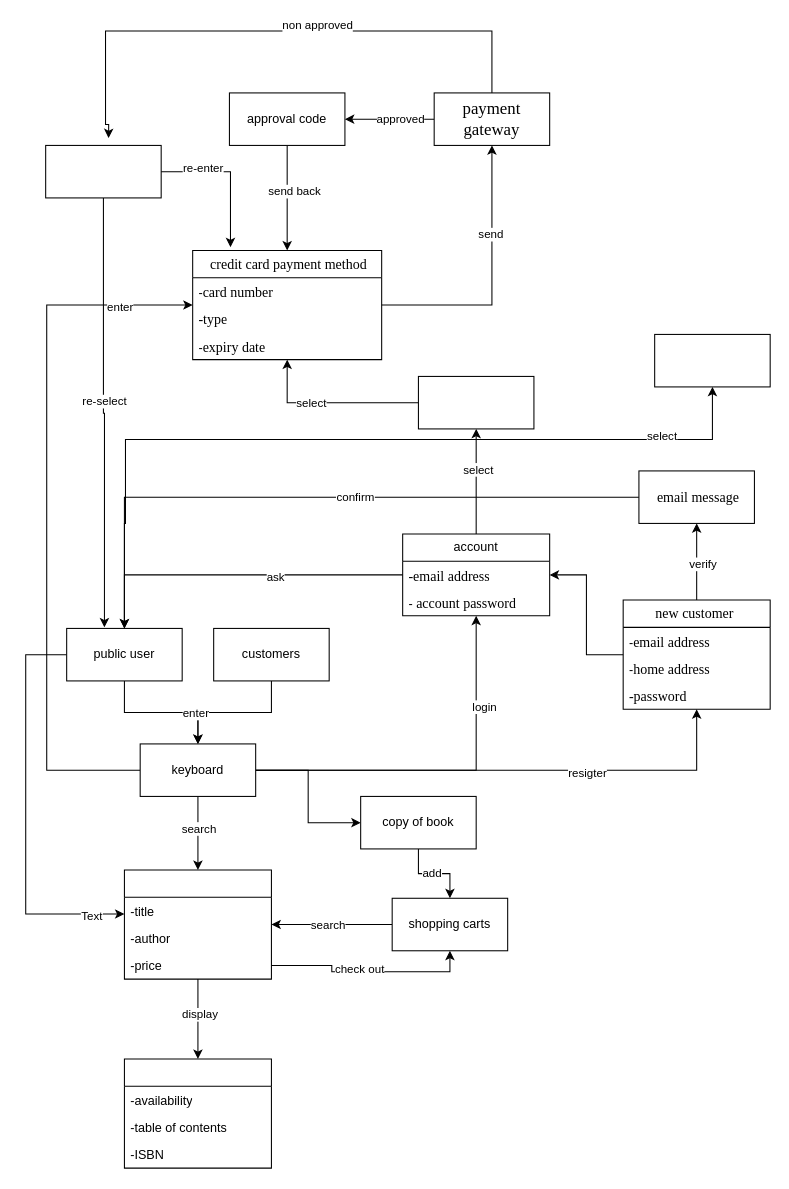
This 789x1189 diagram has some shape labels left out. Each missing label, with the box of its shape:
account payment: (654, 333, 770, 387)
book: (123, 869, 271, 979)
detail information: (123, 1058, 271, 1168)
payment information: (45, 144, 161, 198)
shipping option: (417, 375, 534, 429)
